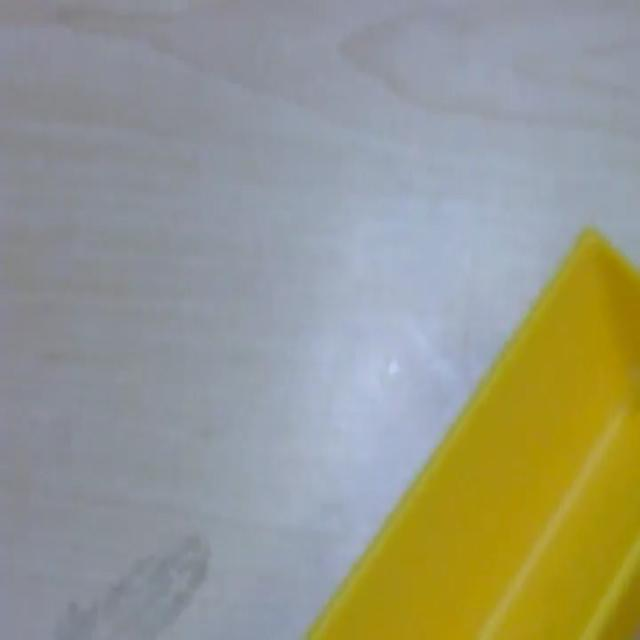yellow_block: (302, 223, 638, 637)
